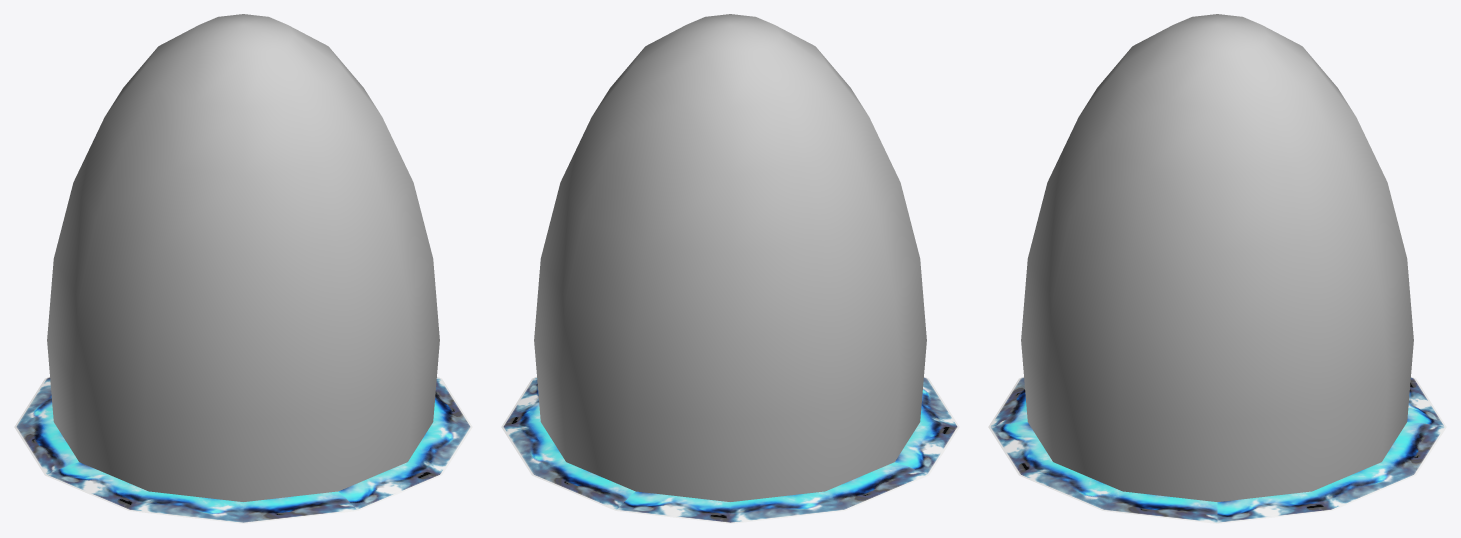
The model's file is shield.fbx.
The picture shows the model from 3 angles, left to right: view 1: azimuth 30°, elevation 25°; view 2: azimuth 150°, elevation 25°; view 3: azimuth 270°, elevation 25°; orthographic projection.
Parts seen in each view (by area): view 1: polySurface3, polySurface2; view 2: polySurface3, polySurface2; view 3: polySurface3, polySurface2.
Part boxes in pixels (x1,y1,x2,y2): polySurface3: [47, 14, 439, 501]; polySurface2: [14, 376, 472, 523]; polySurface3: [534, 14, 926, 501]; polySurface2: [501, 376, 959, 523]; polySurface3: [1021, 14, 1413, 501]; polySurface2: [988, 376, 1446, 523].
Bounding box in the file's own units: 7.73 × 7.49 × 7.73.
